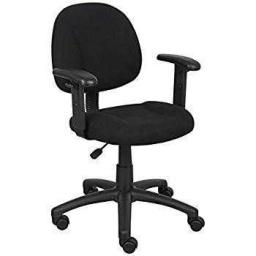Chair: (51, 3, 205, 252)
